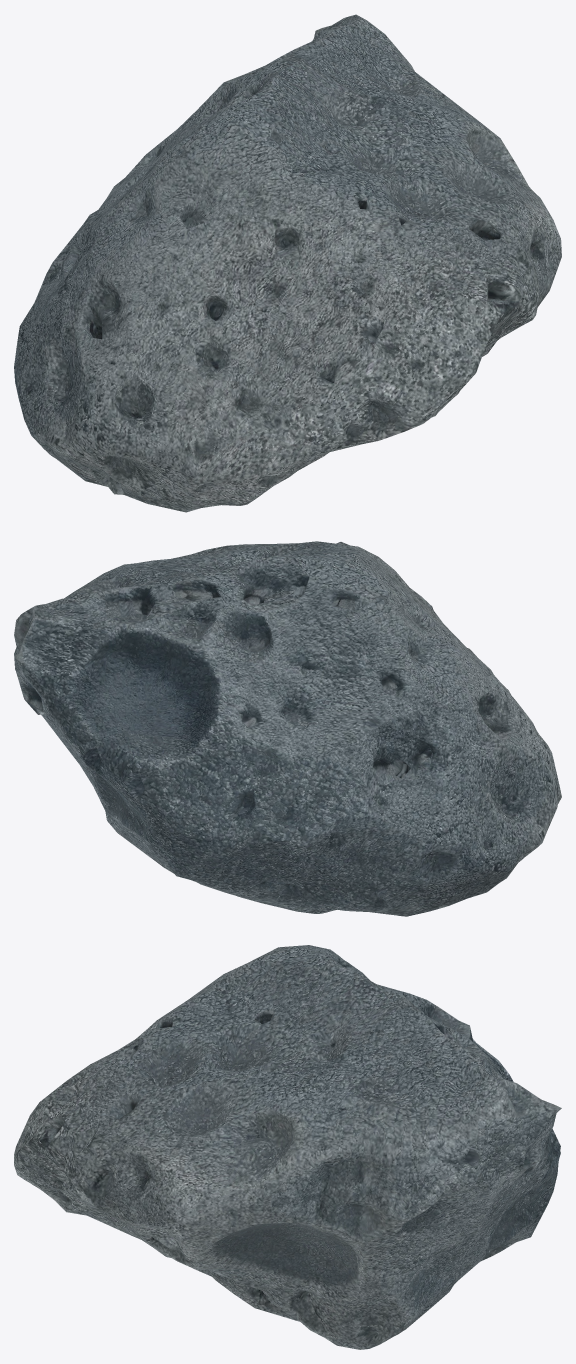
Rendered from Asteroid2.glb.
The picture shows the model from 3 angles, top to bottom: view 1: azimuth 30°, elevation 25°; view 2: azimuth 150°, elevation 25°; view 3: azimuth 270°, elevation 25°; orthographic projection. The views are drawn at different scales.
Parts seen in each view (by area): view 1: mesh_node; view 2: mesh_node; view 3: mesh_node.
Part boxes in pixels (x1,y1,x2,y2): mesh_node: [14, 14, 561, 512]; mesh_node: [14, 541, 561, 916]; mesh_node: [14, 945, 561, 1349].
Bounding box in the file's own units: 0.9883 × 0.7012 × 1.
1 material, 1 textured.
